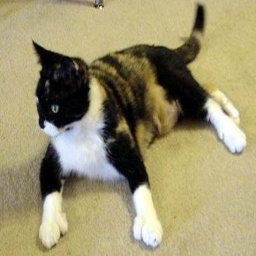cat: (16, 8, 248, 247)
